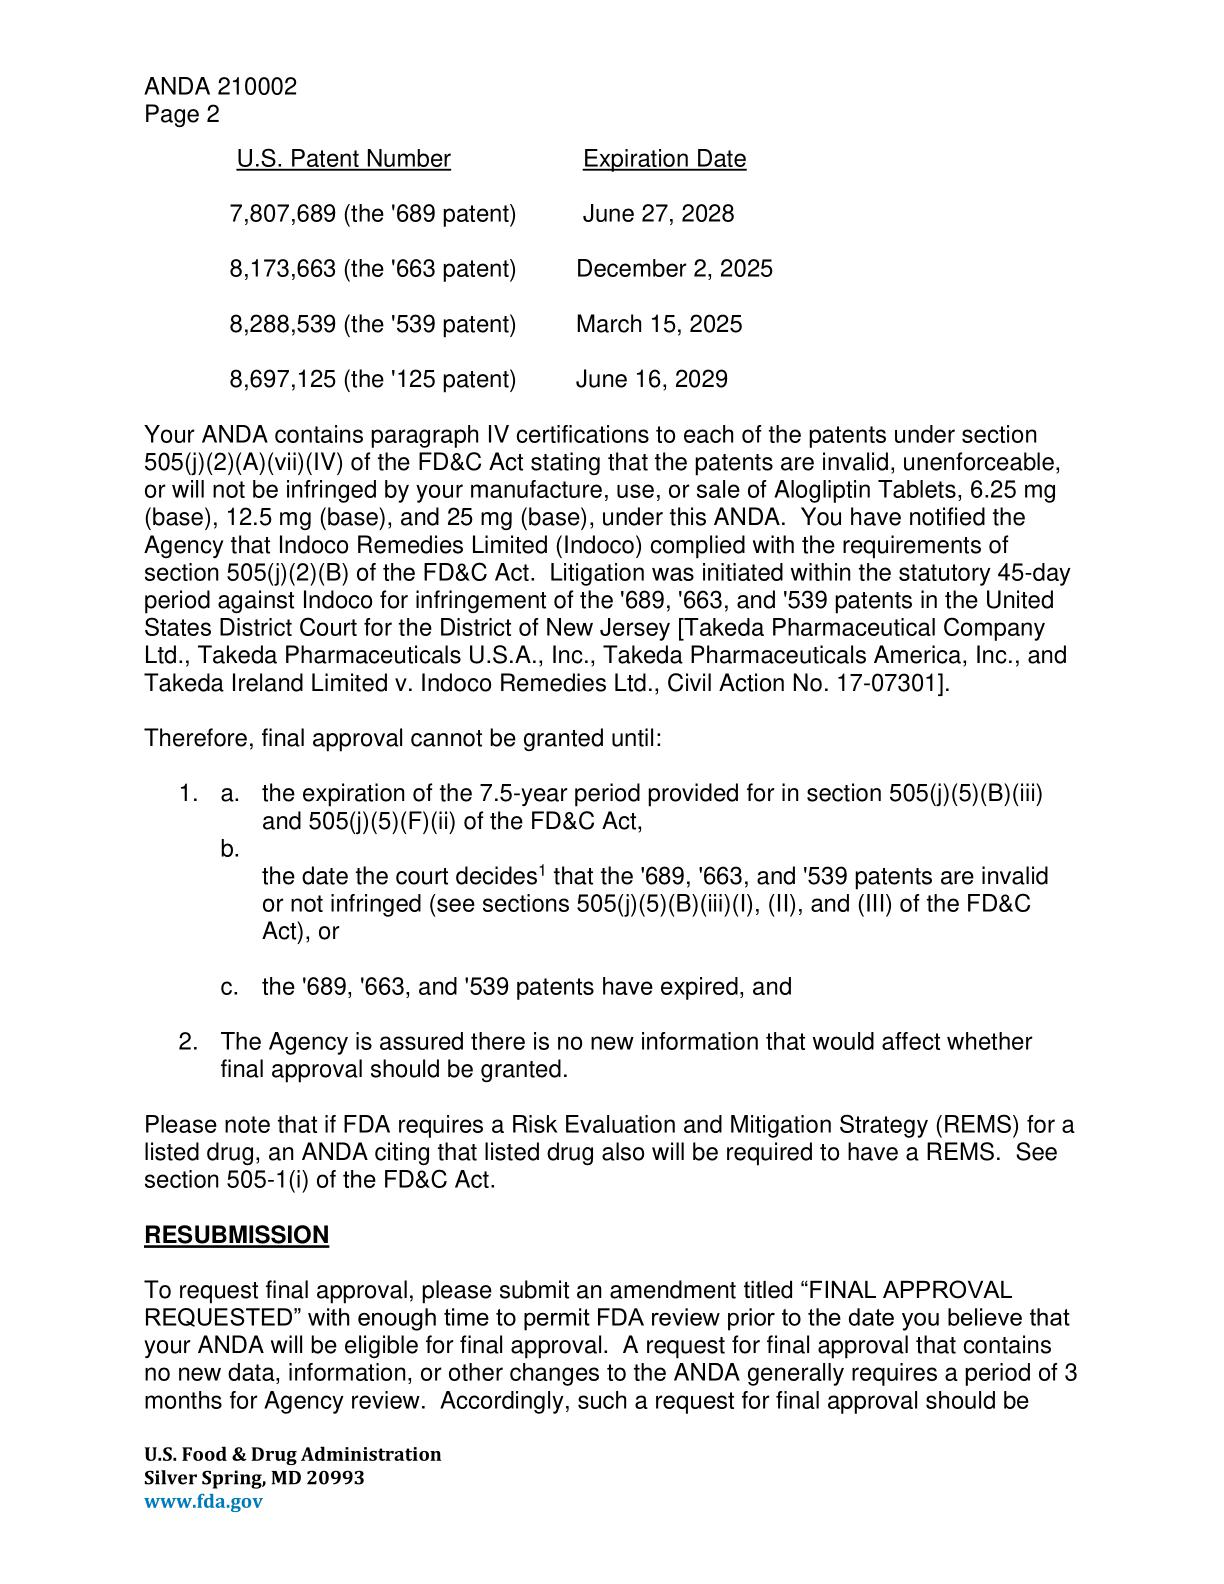nolines: (228, 147, 774, 390)
